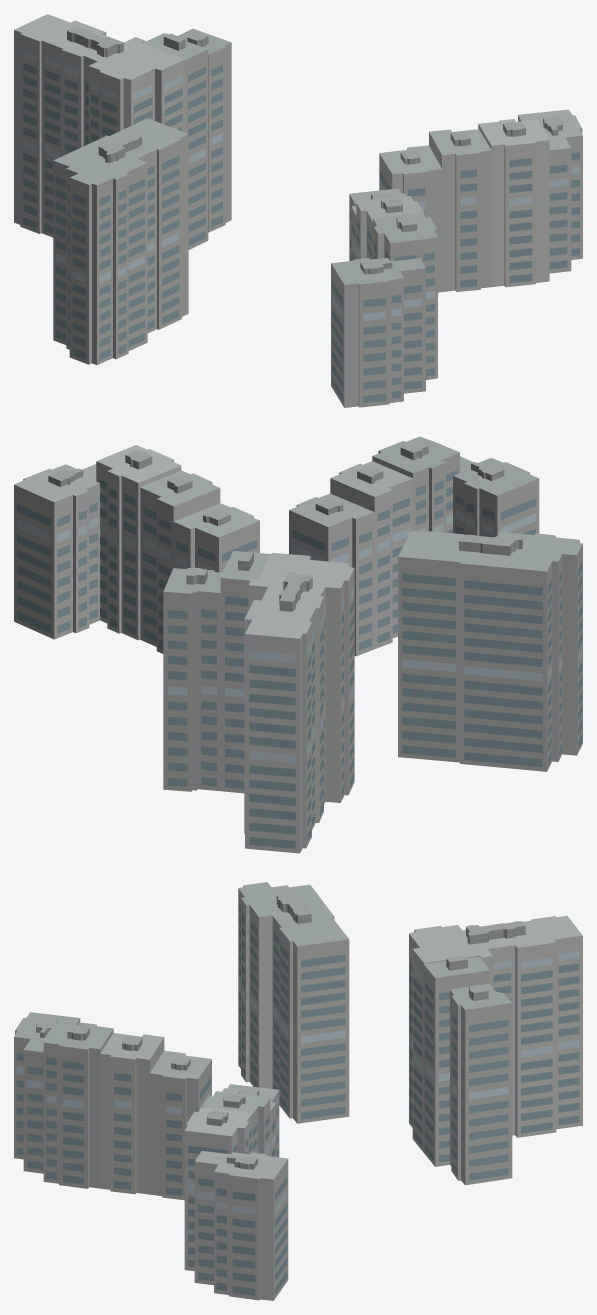
Rendered from apt-a12179505.glb.
The picture shows the model from 3 angles, top to bottom: view 1: azimuth 30°, elevation 25°; view 2: azimuth 150°, elevation 25°; view 3: azimuth 270°, elevation 25°; orthographic projection. The views are drawn at different scales.
Visible parts, largest first — view 1: apt-a12179505; view 2: apt-a12179505; view 3: apt-a12179505.
Part boxes in pixels (left/top/right/bottom): apt-a12179505: left=14, top=14, right=582, bottom=407; apt-a12179505: left=14, top=436, right=582, bottom=853; apt-a12179505: left=14, top=882, right=582, bottom=1300.
Size of the model in its own units: 117 by 45 by 117.
